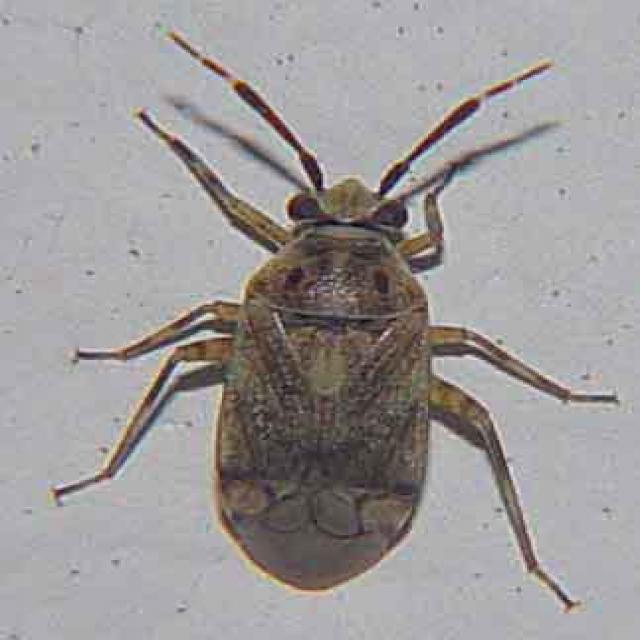Miridae-Adult-: (53, 23, 617, 608)
